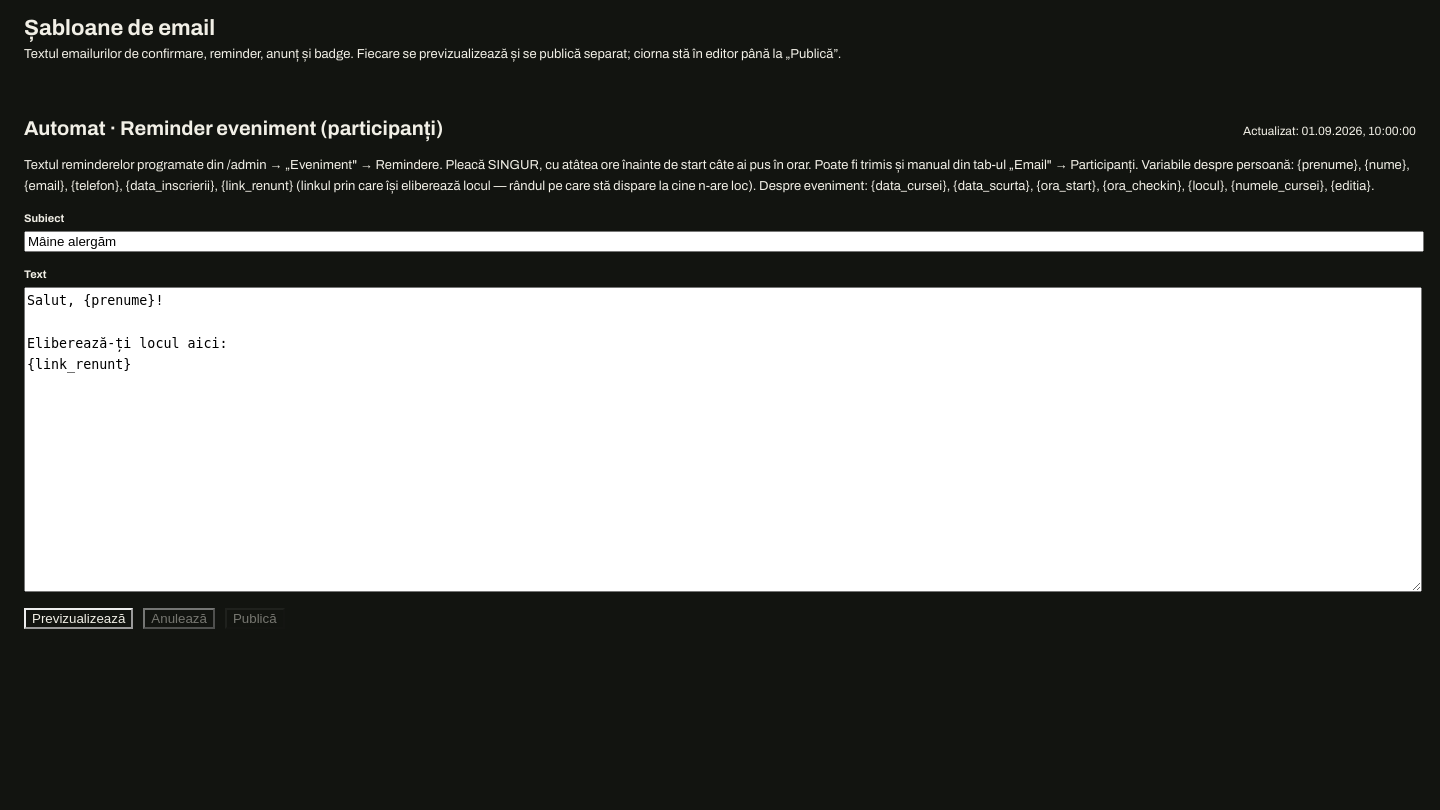
AdminTemplatesTab — previzualizarea HTML › o ediție fără destinatari spune de ce n-are ce randa
Click the button "Previzualizează".
click(79, 618)  # box [24, 608, 133, 629]
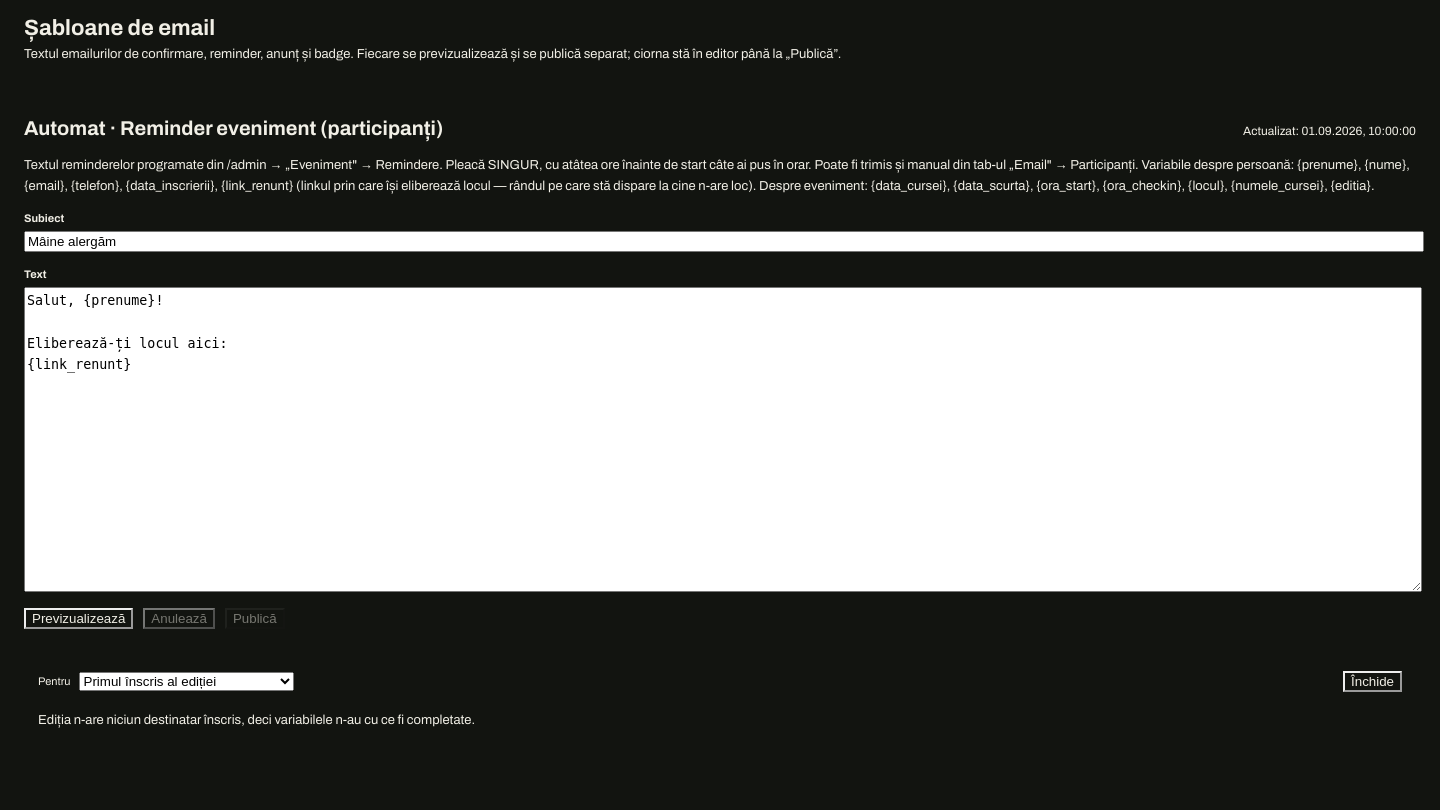
Check: the text "niciun destinatar înscris" is shown, box [38, 713, 475, 727]
